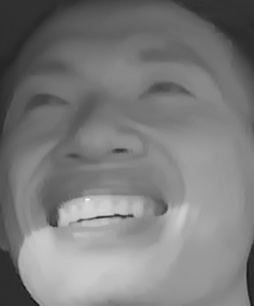eye: (21, 83, 78, 117), (136, 75, 194, 106)
mouth: (36, 175, 173, 240)
